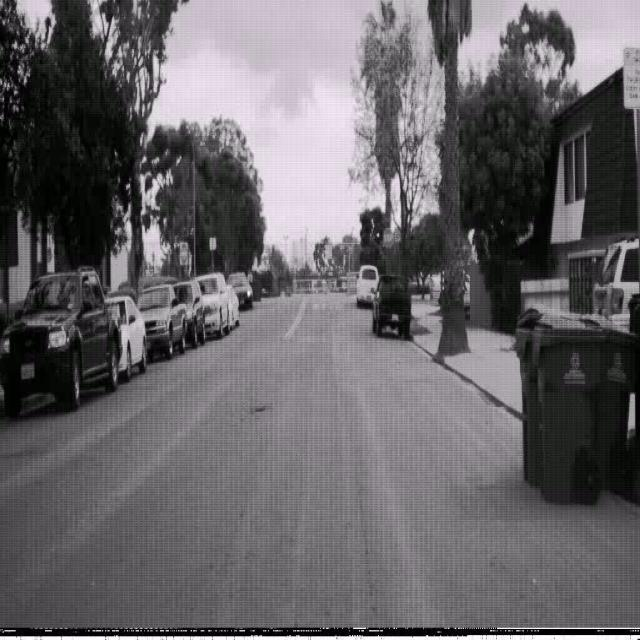doNotEnter: (179, 242, 188, 264)
stop: (382, 227, 394, 249)
